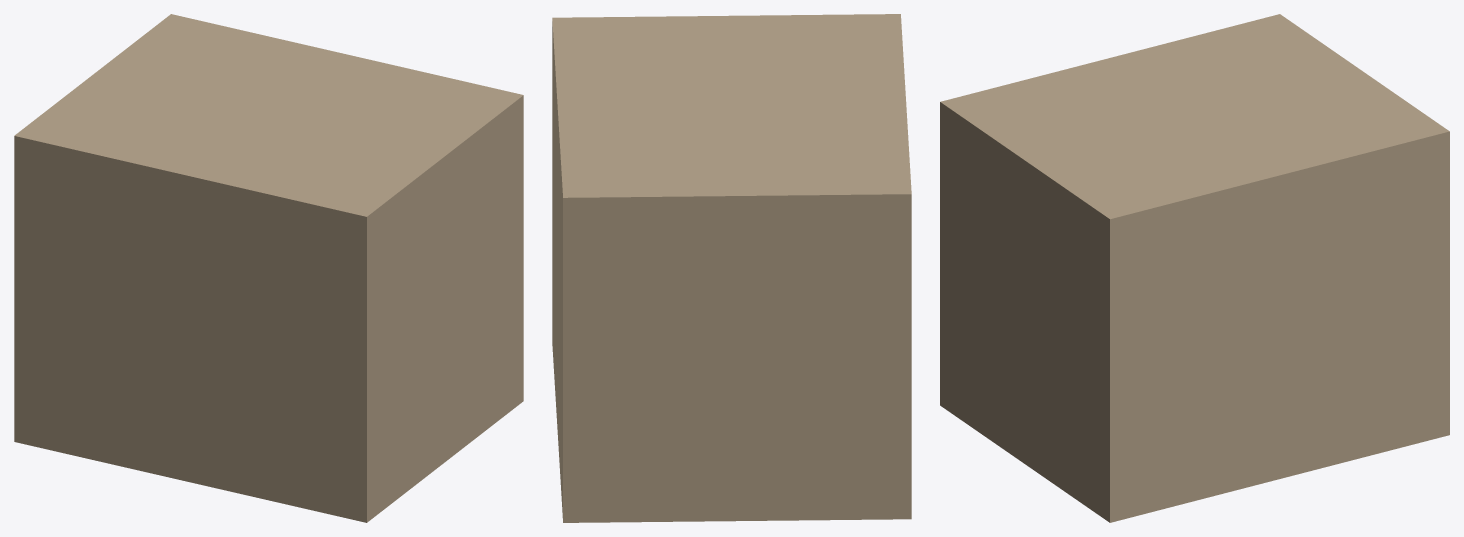
Rendered from bld_101979747.dae.
The picture shows the model from 3 angles, left to right: view 1: azimuth 30°, elevation 25°; view 2: azimuth 150°, elevation 25°; view 3: azimuth 270°, elevation 25°; orthographic projection. The views are drawn at different scales.
Parts seen in each view (by area): view 1: bld_101979747; view 2: bld_101979747; view 3: bld_101979747.
Part boxes in pixels (left/top/right/bottom): bld_101979747: left=14, top=14, right=523, bottom=522; bld_101979747: left=552, top=14, right=911, bottom=522; bld_101979747: left=940, top=14, right=1449, bottom=522.
Size of the model in its own units: 11.6 by 12.17 by 8.
